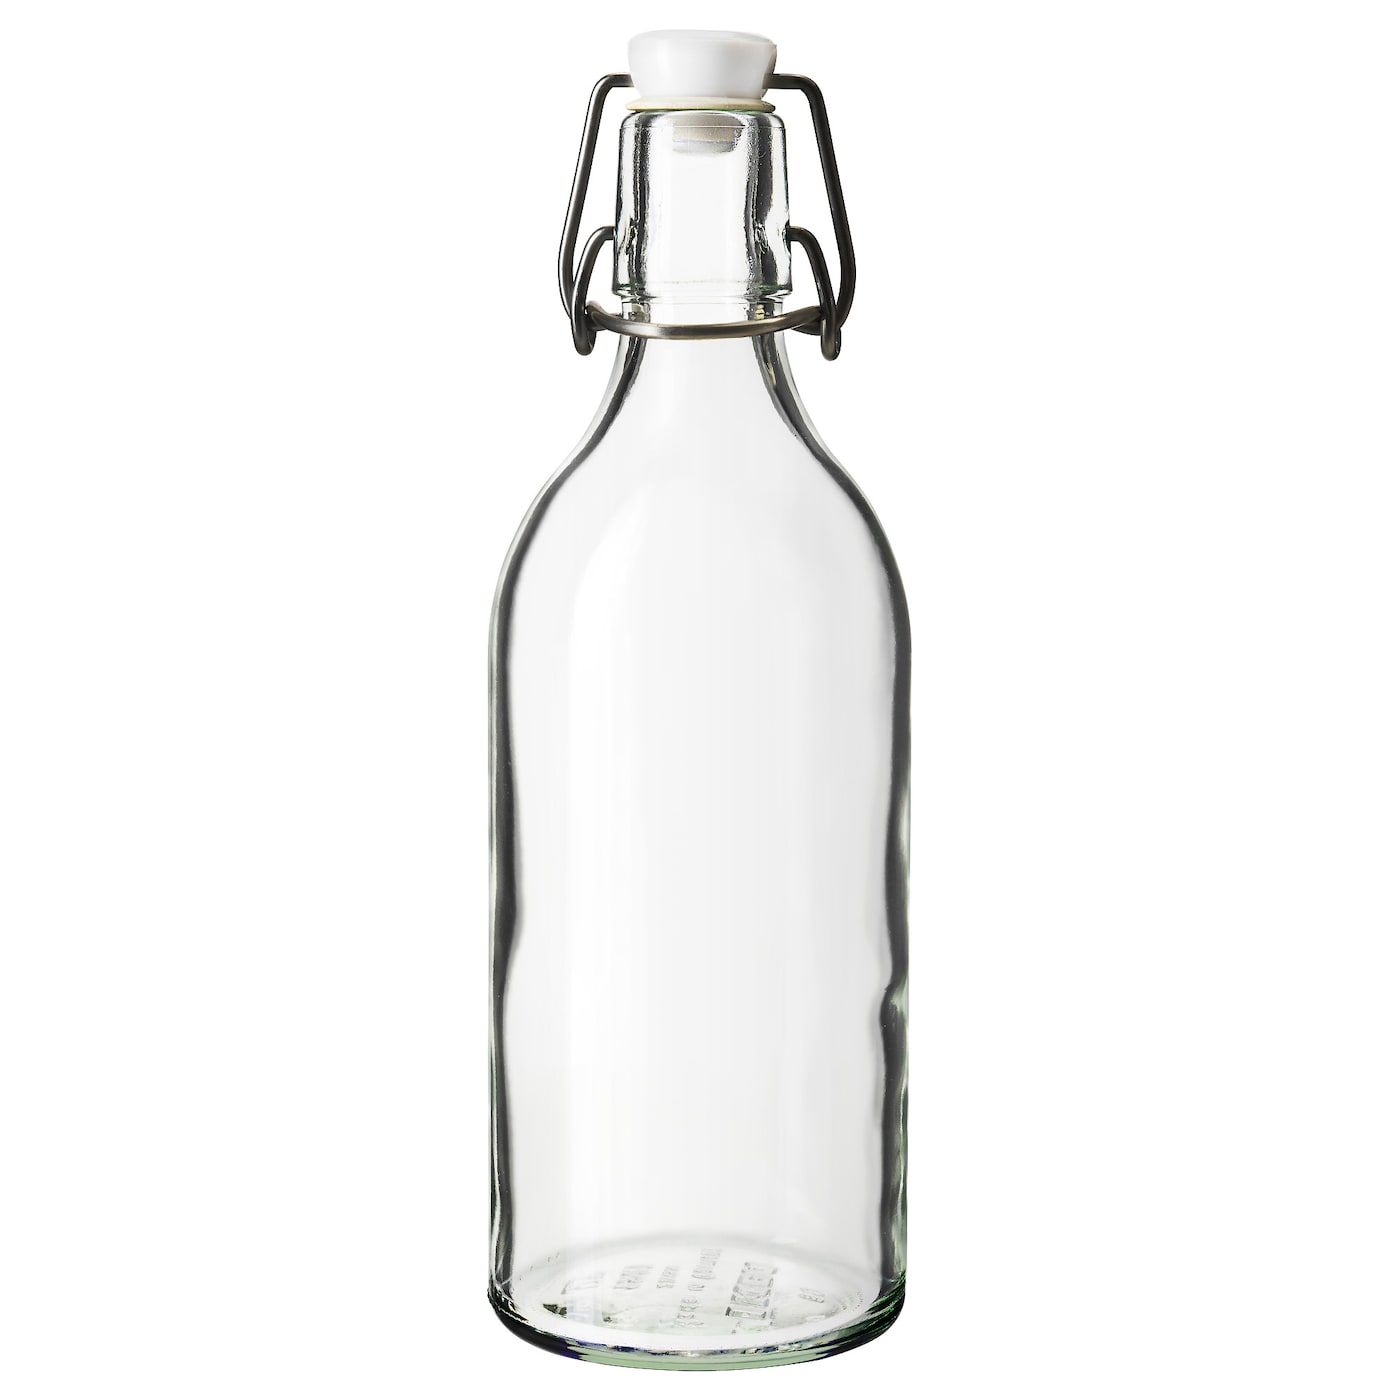glass_bottle: (471, 26, 927, 1378)
